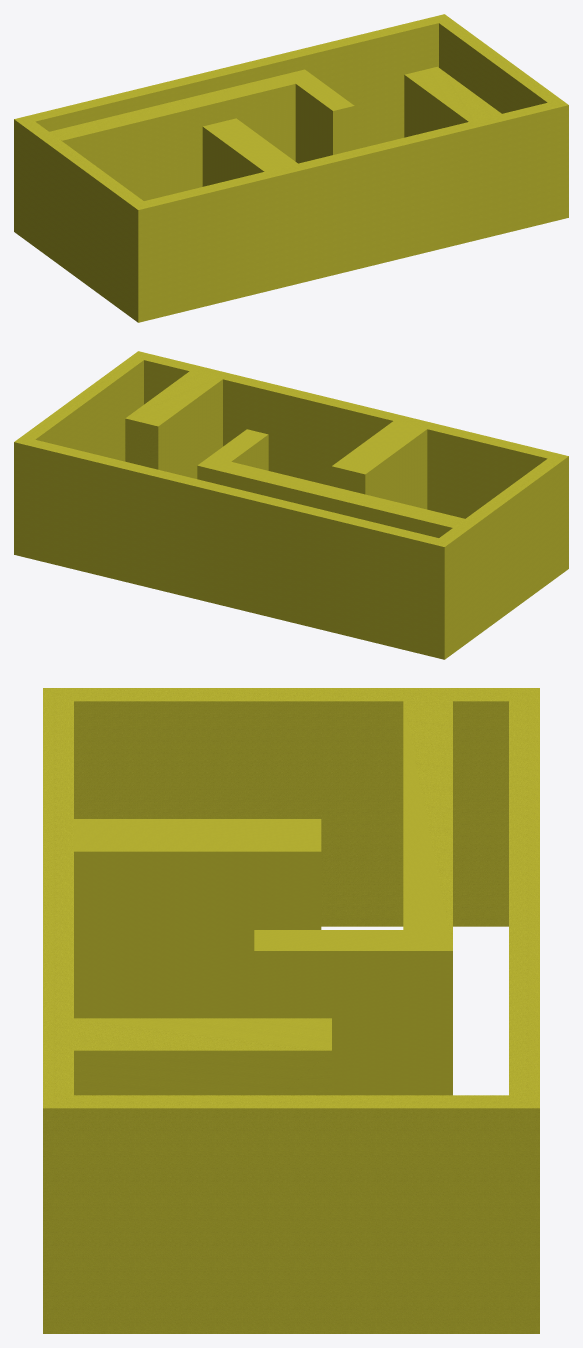
The model's file is Level4.obj.
3 views of the same model, one above another, from view 1: azimuth 30°, elevation 25°; view 2: azimuth 150°, elevation 25°; view 3: azimuth 270°, elevation 25° (orthographic). The views are drawn at different scales.
Visible parts, largest first — view 1: Rectangle01, Line01, Rectangle04, Rectangle03; view 2: Rectangle01, Line01, Rectangle04, Rectangle03; view 3: Rectangle01, Rectangle03, Line01, Rectangle04.
Boxes of the visible parts, x1,y1,x2,y2 form: Rectangle01: (14,14,568,322); Line01: (49,69,354,200); Rectangle04: (404,66,502,137); Rectangle03: (202,118,297,186); Rectangle01: (14,351,568,659); Line01: (197,429,464,537); Rectangle04: (125,371,222,478); Rectangle03: (331,420,427,509); Rectangle01: (43,688,539,1333); Rectangle03: (70,819,321,1018); Line01: (254,701,452,1095); Rectangle04: (69,1018,331,1095).
Size of the model in its own units: 8 by 2 by 4.
